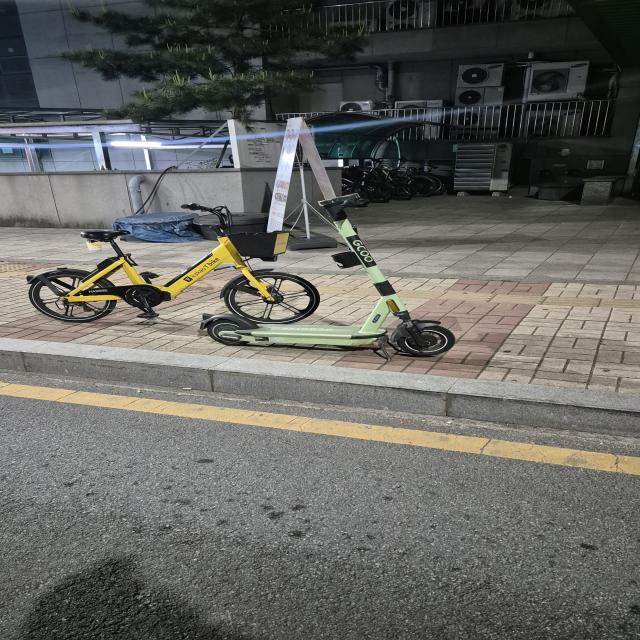curb: (0, 338, 639, 436)
kick-board: (202, 195, 453, 359)
lane: (0, 382, 639, 474)
road: (2, 396, 637, 640), (246, 411, 249, 414)
sidewalk: (0, 229, 639, 392), (349, 199, 637, 278), (251, 250, 377, 325)
verge: (0, 371, 639, 456)
